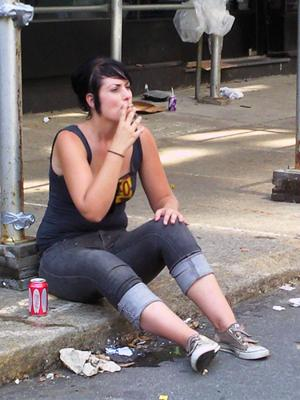person: (37, 53, 271, 378)
